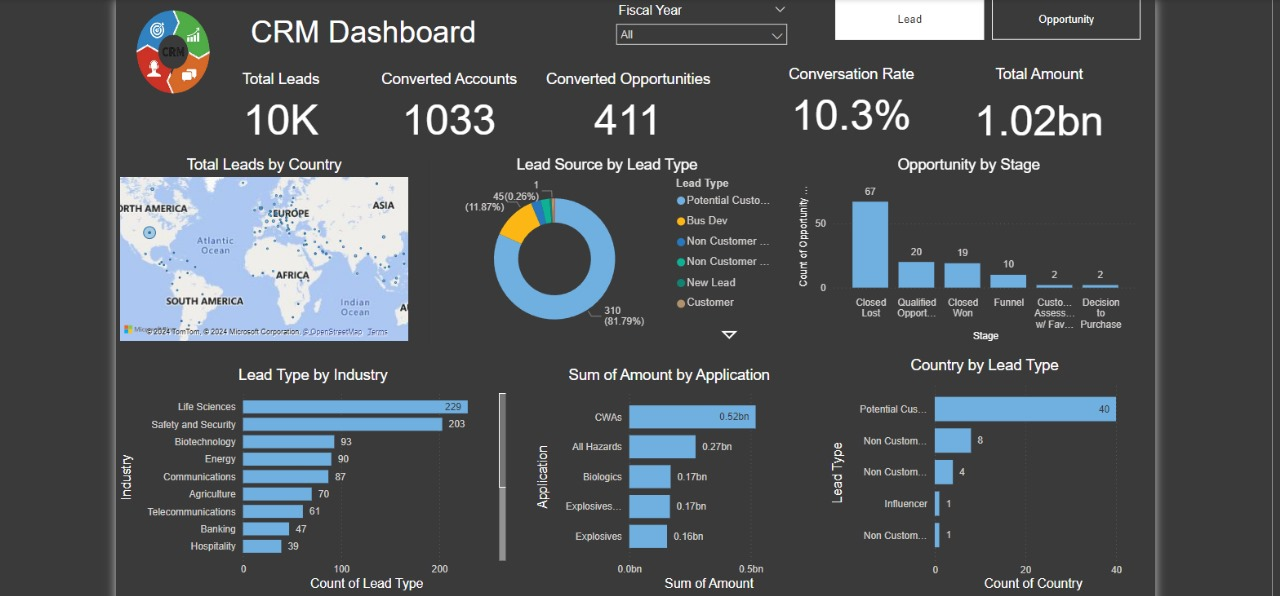

The dashboard page shown, as its layout file describes it:
{"tool":"tableau","page":{"name":"Lead Dashboard","canvas":[1000,1000],"units":"permille","ordinal":0},"visuals":[{"type":"image","param":"Image/CRM_img-removebg-preview.png","box":[48.6,18.7,152.3,136.1]},{"type":"text","box":[266.8,22.5,419.7,111.1]},{"type":"filter","title":"Converted Accounts","param":"[federated.1vvaqhi0y893e312hyp560szctv0].[yr:Fiscal Year (Opportunity) (date):ok","box":[881,57.4,96.6,66.2]},{"type":"text","box":[359.6,113.6,204.7,71.2]},{"type":"worksheet","title":"Converted Accounts","mark":"Automatic","box":[179.8,166,184.3,131.1]},{"type":"worksheet","title":"Total Leads","mark":"Automatic","box":[41,186,105.6,91.1]},{"type":"worksheet","title":"Converted Opportunities","mark":"Automatic","box":[355.1,188.5,225.2,154.8]},{"type":"worksheet","title":"lead Conversion Rate","mark":"Automatic","box":[562.4,189.8,275.1,94.9]},{"type":"worksheet","title":"Top 5 Country by Lead","mark":"Automatic","box":[23,292.1,437,355.8]},{"type":"worksheet","title":"Bottom 5 Country by Lead ","mark":"Automatic","box":[467.7,294.6,497.1,353.3]},{"type":"worksheet","title":"Leads by Status","mark":"Circle","box":[711.5,654.2,270,333.3]},{"type":"worksheet","title":"Leads by Industry","mark":"Automatic","rows":["Total Leads"],"cols":["Expected Amount (KPIs)","Industry"],"box":[23,662.9,323.1,288.4]},{"type":"worksheet","title":"Leads by Source","mark":"Automatic","rows":["Lead Source"],"cols":["Total Leads"],"box":[349.3,664.2,380.7,290.9]}]}

Visuals, with their boxes on the dashboard's canvas, which has no fixed pixel size, in thousandths of its width and height (x1, y1, x2, y2). These are canvas units, not pixel positions in the 1280x596 screenshot, which may show the page scaled, cropped or inside an application window:
image: 49/19/201/155
text: 267/22/686/134
"Converted Accounts" filter: 881/57/978/124
text: 360/114/564/185
"Converted Accounts" worksheet: 180/166/364/297
"Total Leads" worksheet: 41/186/147/277
"Converted Opportunities" worksheet: 355/188/580/343
"lead Conversion Rate" worksheet: 562/190/838/285
"Top 5 Country by Lead" worksheet: 23/292/460/648
"Bottom 5 Country by Lead " worksheet: 468/295/965/648
"Leads by Status" worksheet (Circle marks): 712/654/982/988
"Leads by Industry" worksheet: 23/663/346/951
"Leads by Source" worksheet: 349/664/730/955
